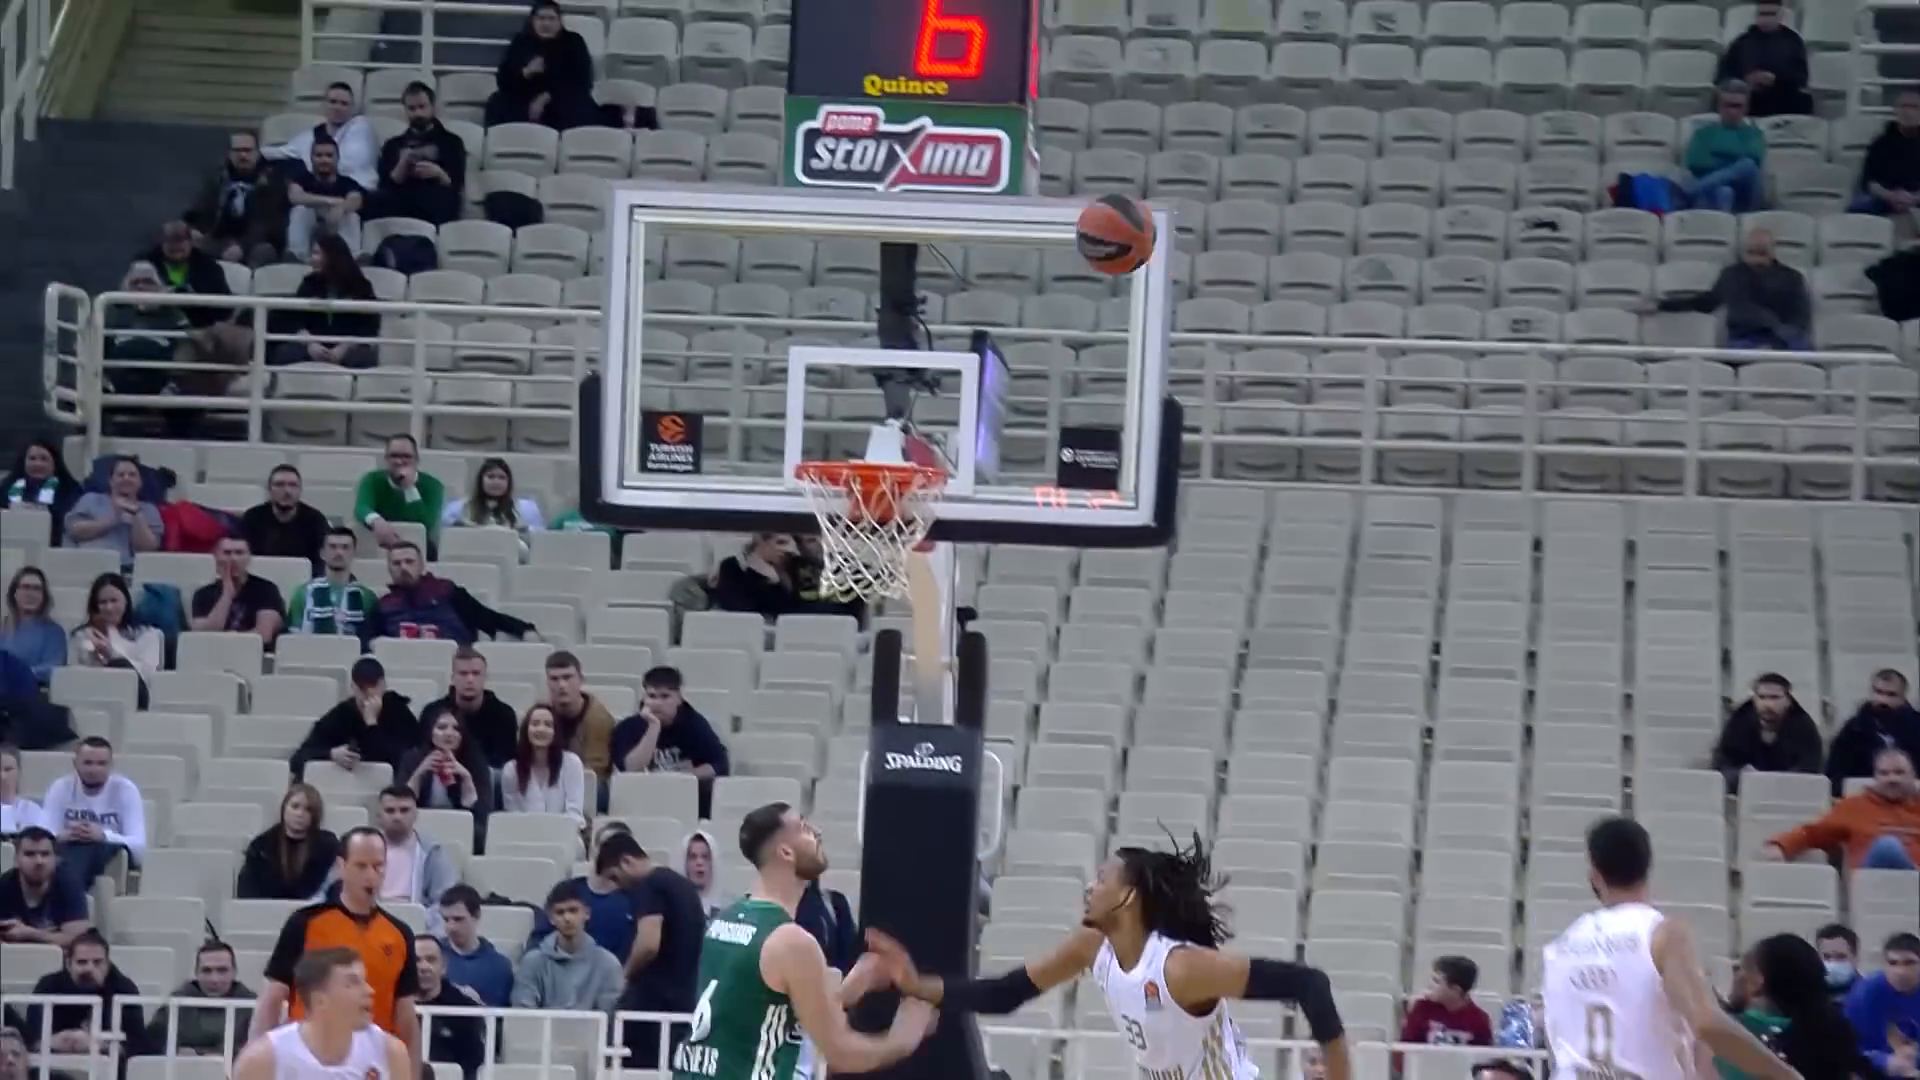ball: (1071, 191, 1163, 280)
net: (791, 456, 956, 607)
